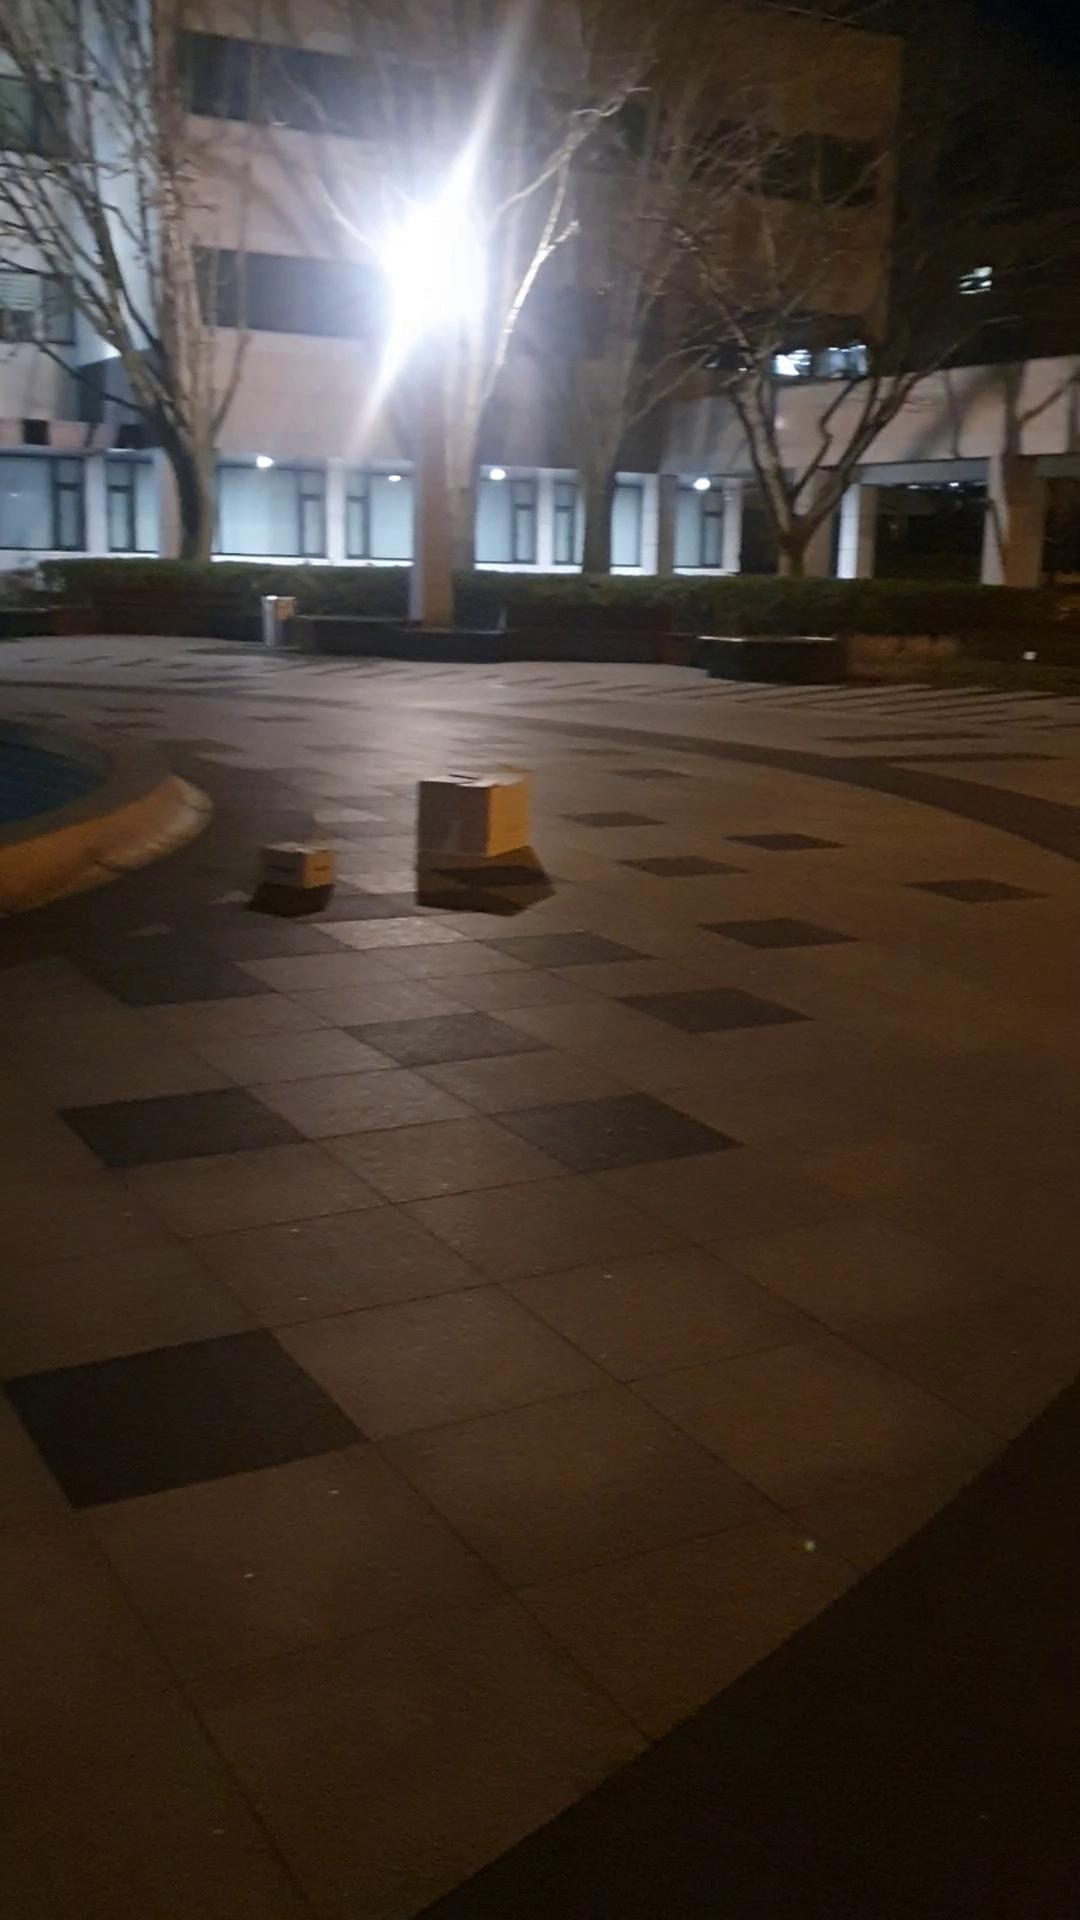Box: (406, 748, 553, 880), (258, 829, 342, 897)
